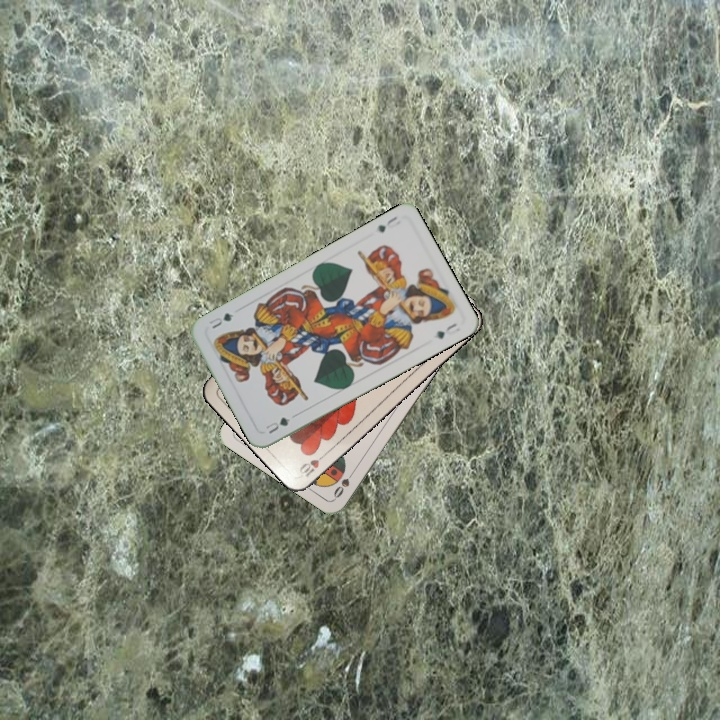GU: (261, 413, 293, 437), (374, 212, 403, 235)
H10: (295, 448, 330, 480)
SO: (329, 465, 358, 501)
